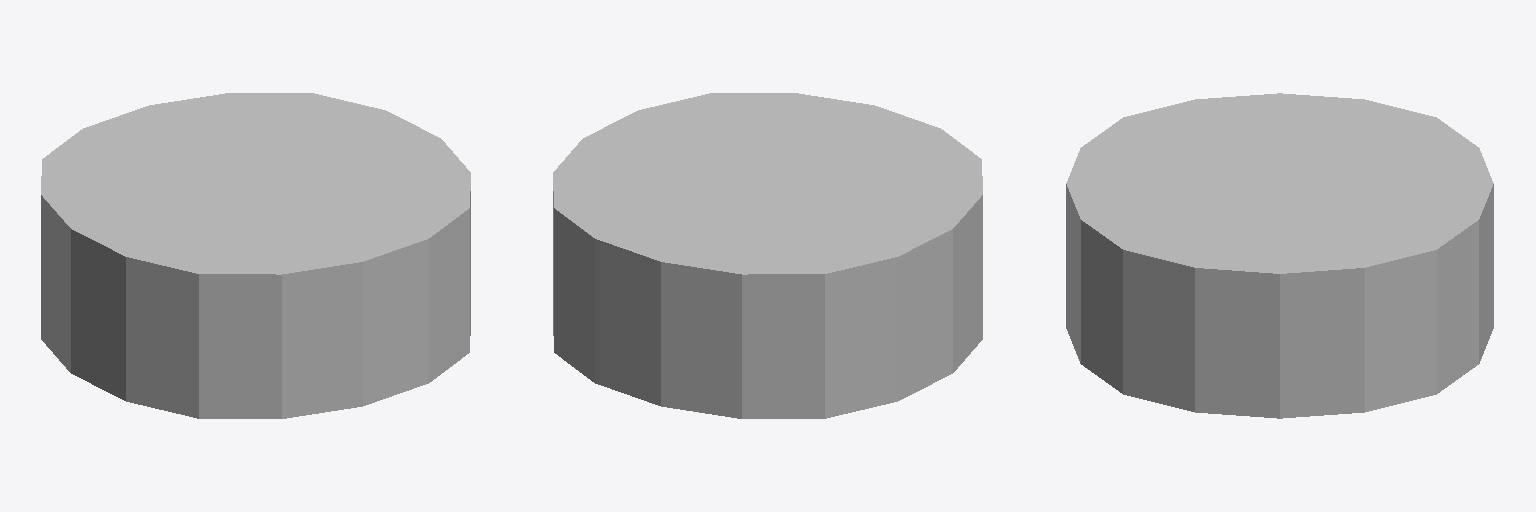
File: hexadecagon.obj
The picture shows the model from 3 angles: view 1: azimuth 30°, elevation 25°; view 2: azimuth 150°, elevation 25°; view 3: azimuth 270°, elevation 25°; orthographic projection.
Visible parts, largest first — view 1: Plane.001; view 2: Plane.001; view 3: Plane.001.
Part boxes in pixels (bbox=[...]): Plane.001: bbox=[41, 93, 470, 418]; Plane.001: bbox=[553, 93, 982, 418]; Plane.001: bbox=[1066, 93, 1493, 418].
Size of the model in its own units: 5.95 by 2.22 by 5.95.